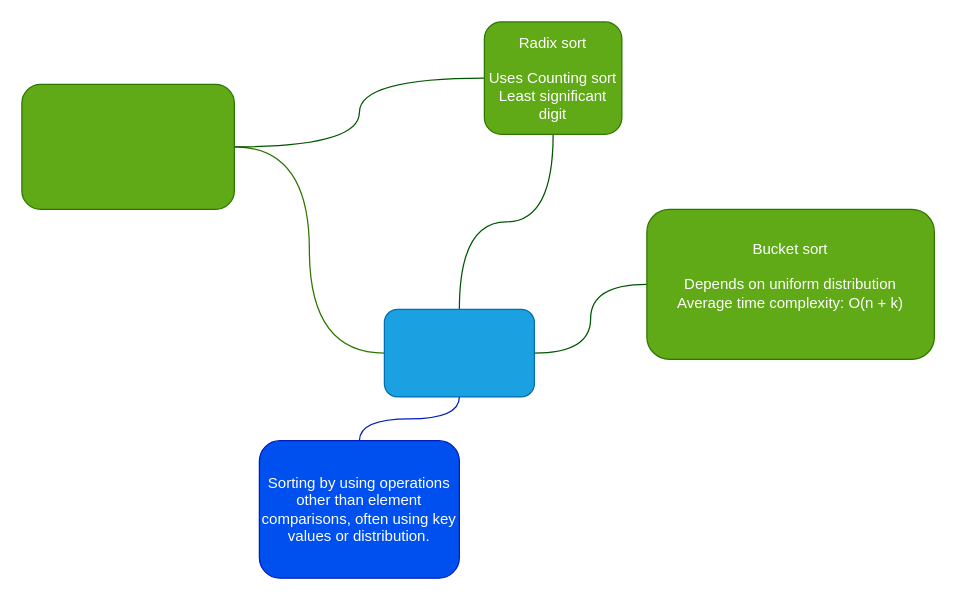
Image size: 956x600. Some labels were removed from this diagram. Each missing label, with the centre of its shape:
Counting Sort Time complexity: O(n + k) Space complexity: O(k) Stable sort: the point at 127,146
Non-comparison sorting algorithms: the point at 458,352
